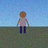person: (17, 11, 29, 33)
